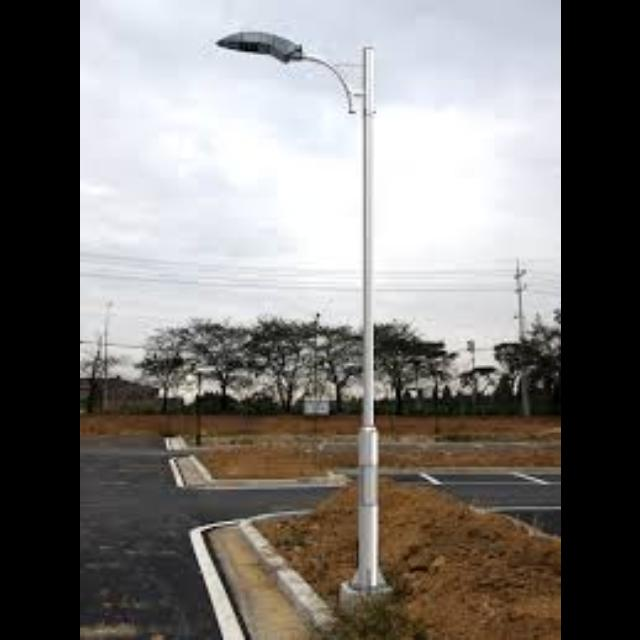Street-Lamp: (206, 15, 414, 613)
